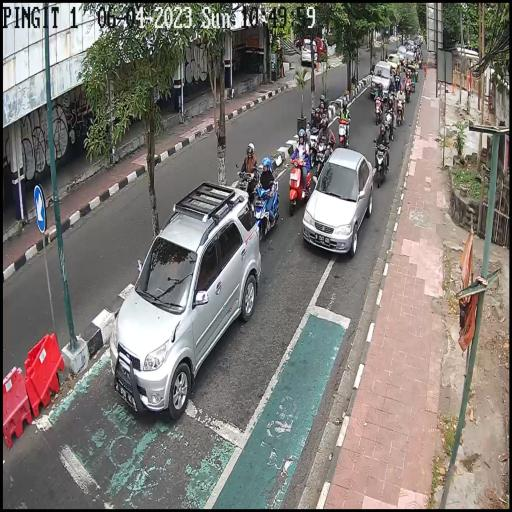mobil: (114, 181, 262, 424), (304, 149, 374, 259), (372, 60, 392, 98), (386, 51, 399, 72)
motor: (253, 180, 279, 239), (289, 152, 310, 214), (235, 164, 260, 202), (373, 138, 392, 186), (313, 137, 334, 175), (306, 122, 321, 169), (337, 113, 351, 146), (373, 92, 384, 126), (384, 104, 395, 138), (396, 97, 405, 127), (404, 82, 412, 106), (394, 73, 402, 93)
